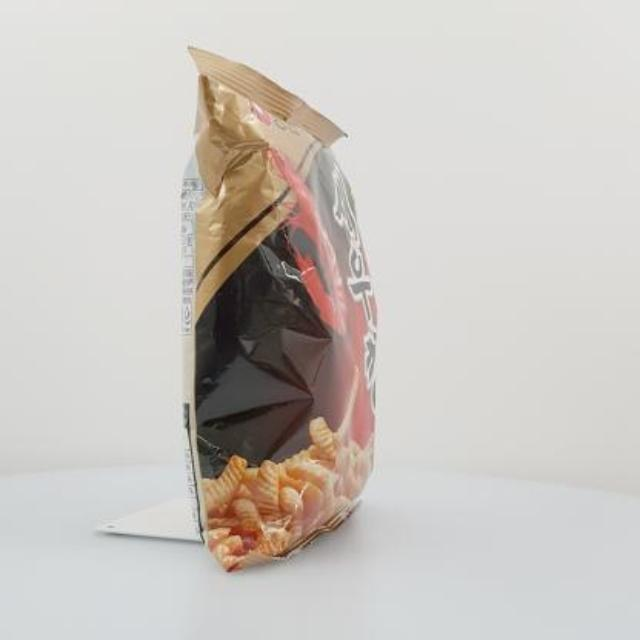snack_bag: (111, 30, 431, 598)
